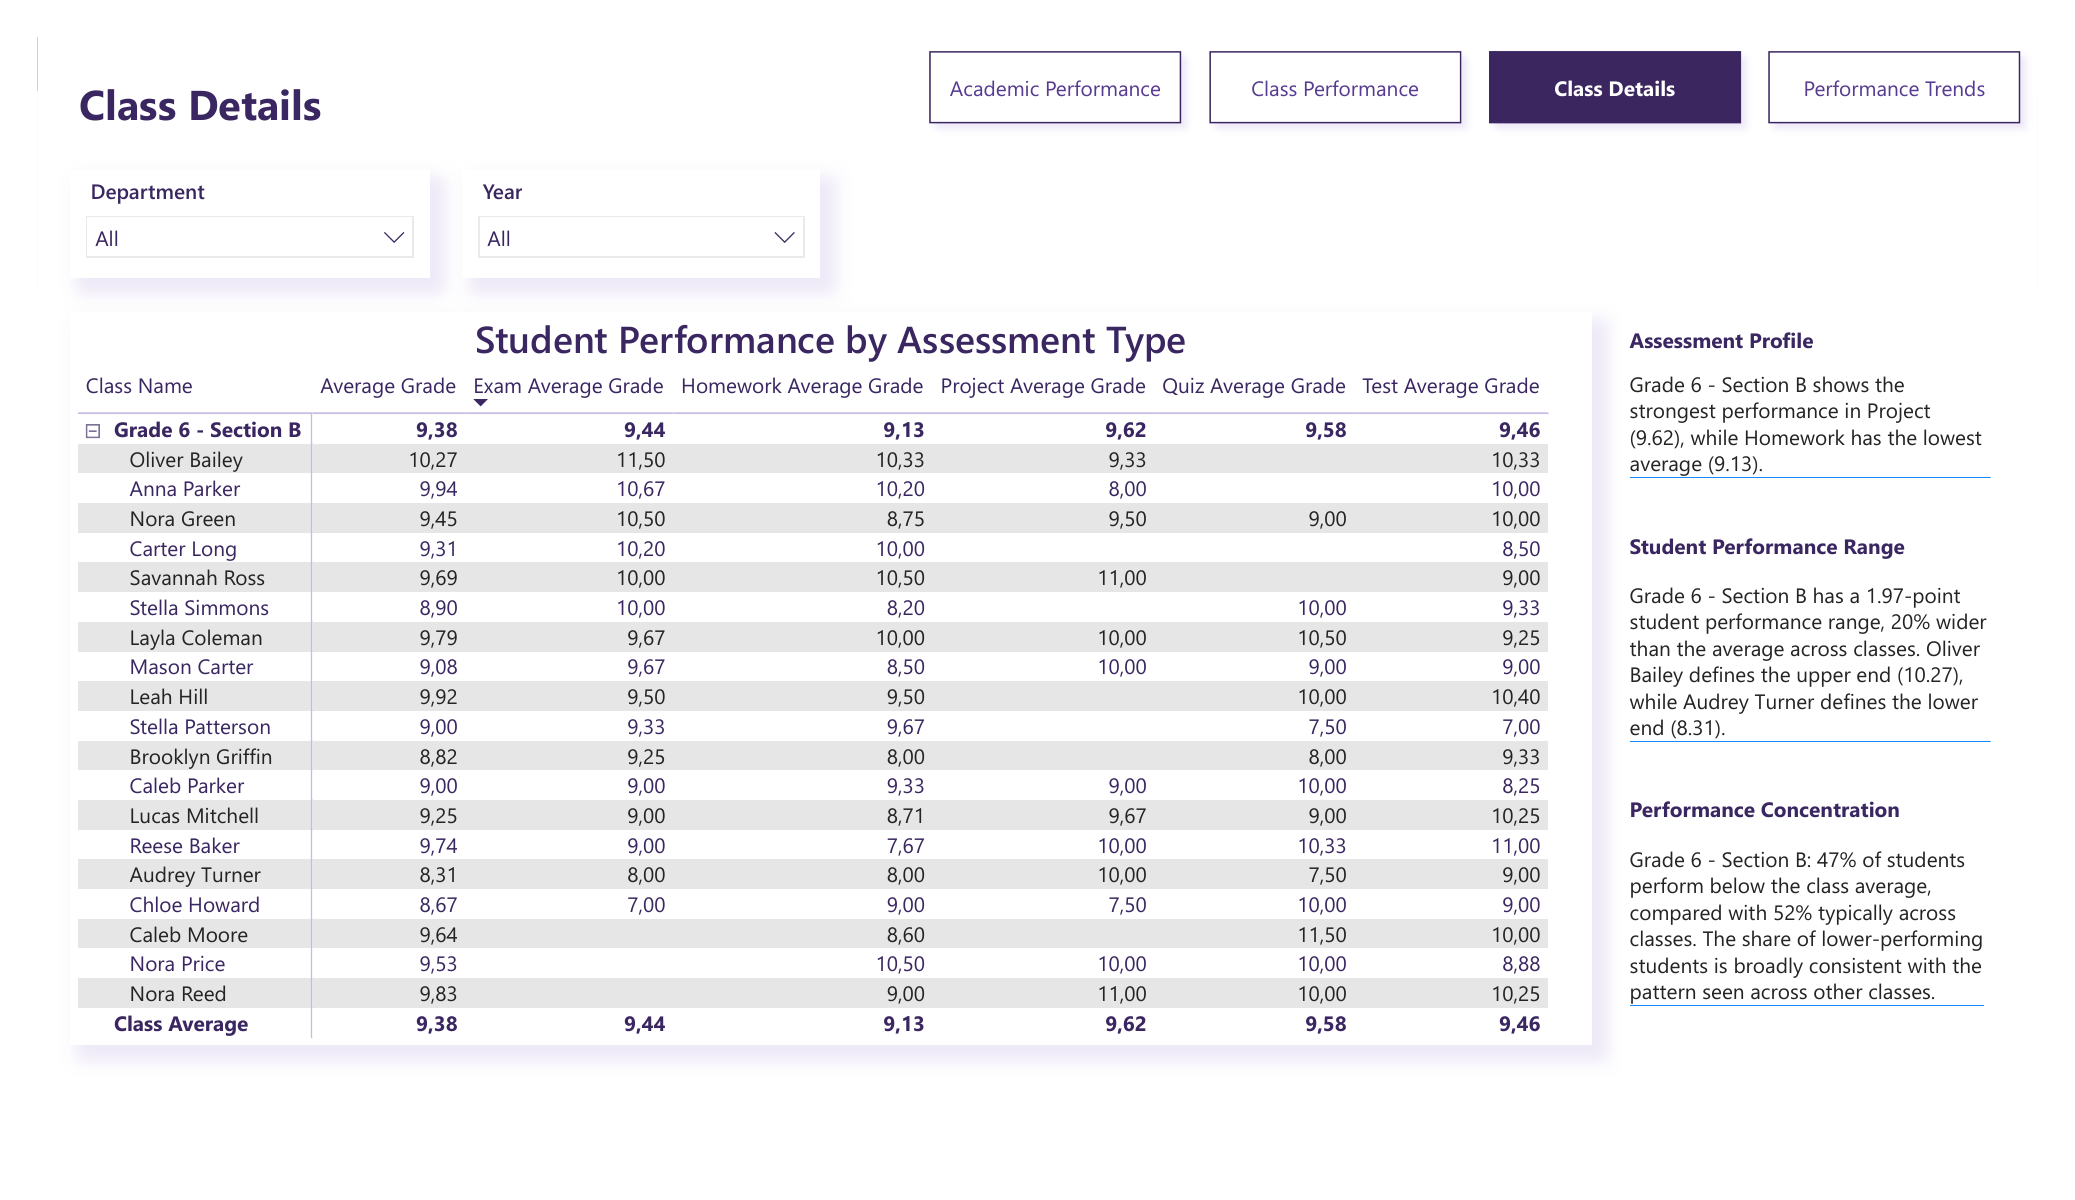

The dashboard page shown, as its layout file describes it:
{"tool":"powerbi","page":{"name":"Class Details","canvas":[1280,720],"ordinal":2},"visuals":[{"type":"pivotTable","title":"Student Performance by Assessment Type","fields":{"Rows":["classes.class_name","students.student_name"],"Values":["_Measures.Average Grade","_Measures.Exam Average Grade Measure","_Measures.Homework Average Grade Measure","_Measures.Project Average Grade","_Measures.Quiz Average Grade","_Measures.Test Average Grade Measure"]},"box":[21.2,175.6,974.3,469.7],"z":0},{"type":"textbox","box":[21.6,19,167.3,48.3],"z":4000},{"type":"slicer","fields":{"Values":["periods.academic_year"]},"box":[271.9,84.6,229.6,69.8],"z":5000},{"type":"slicer","fields":{"Values":["subjects.department_hint"]},"box":[21.2,84.6,229.6,69.8],"z":6000},{"type":"textbox","box":[1014.5,208,240.1,103.7],"z":7000},{"type":"textbox","box":[1014.5,180.5,169.3,27.5],"z":8000},{"type":"textbox","box":[1014,343,241,137],"z":9000},{"type":"textbox","box":[1014,312,237,31],"z":10000},{"type":"textbox","box":[1014,512,237,156],"z":11000},{"type":"textbox","box":[1014,480,221,32],"z":12000},{"type":"pageNavigator","box":[562.1,0,717.9,63.6],"z":13000}]}

Visuals, with their boxes on the page's 1280x720 design canvas (x1, y1, x2, y2). These are canvas units, not pixel positions in the 2075x1200 screenshot, which may show the page scaled, cropped or inside an application window:
"Student Performance by Assessment Type" pivotTable: region(21, 176, 996, 645)
textbox: region(22, 19, 189, 67)
slicer - periods.academic_year: region(272, 85, 502, 154)
slicer - subjects.department_hint: region(21, 85, 251, 154)
textbox: region(1014, 208, 1255, 312)
textbox: region(1014, 180, 1184, 208)
textbox: region(1014, 343, 1255, 480)
textbox: region(1014, 312, 1251, 343)
textbox: region(1014, 512, 1251, 668)
textbox: region(1014, 480, 1235, 512)
pageNavigator: region(562, 0, 1280, 64)
